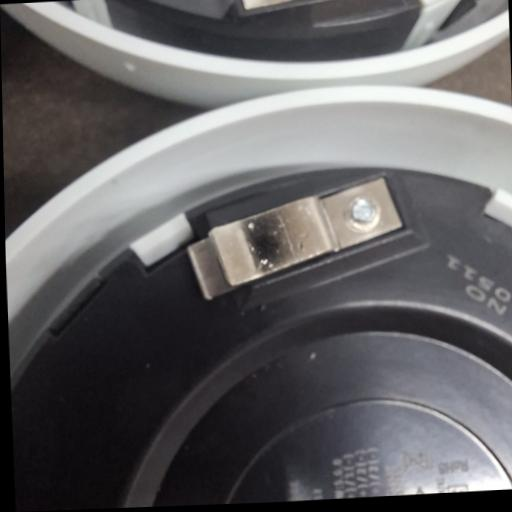yayli: (180, 172, 408, 302)
